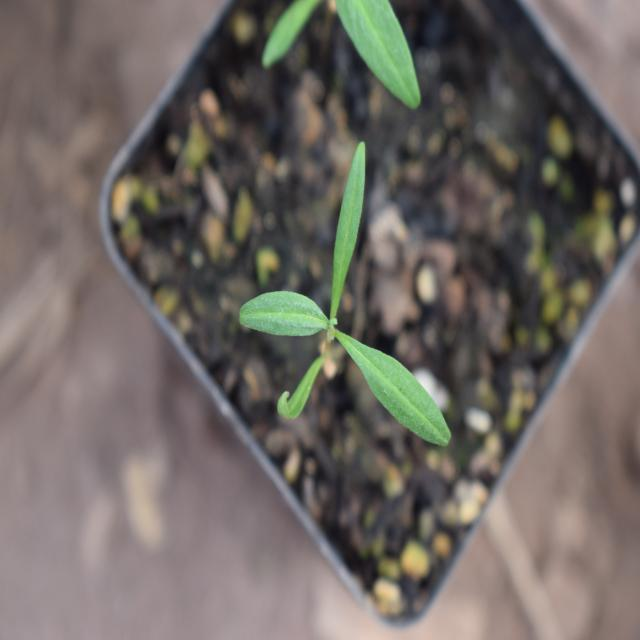white_smart_weed: (226, 117, 482, 464)
